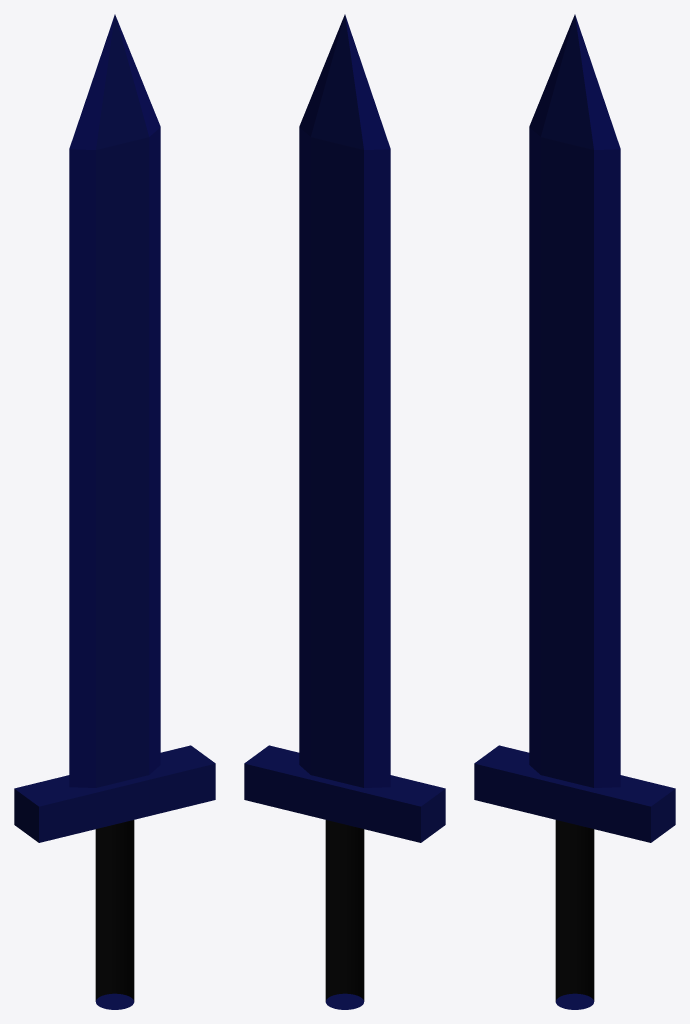
Rendered from sword.fbx.
3 views of the same model, side by side, from view 1: azimuth 30°, elevation 25°; view 2: azimuth 150°, elevation 25°; view 3: azimuth 330°, elevation 25° (orthographic).
Visible parts, largest first — view 1: Cube; view 2: Cube; view 3: Cube.
Part boxes in pixels (box(x1,y1,x2,y2)): Cube: box(14, 14, 215, 1009); Cube: box(244, 14, 445, 1009); Cube: box(474, 14, 675, 1009).
Bounding box in the file's own units: 204 × 1089 × 49.66.
